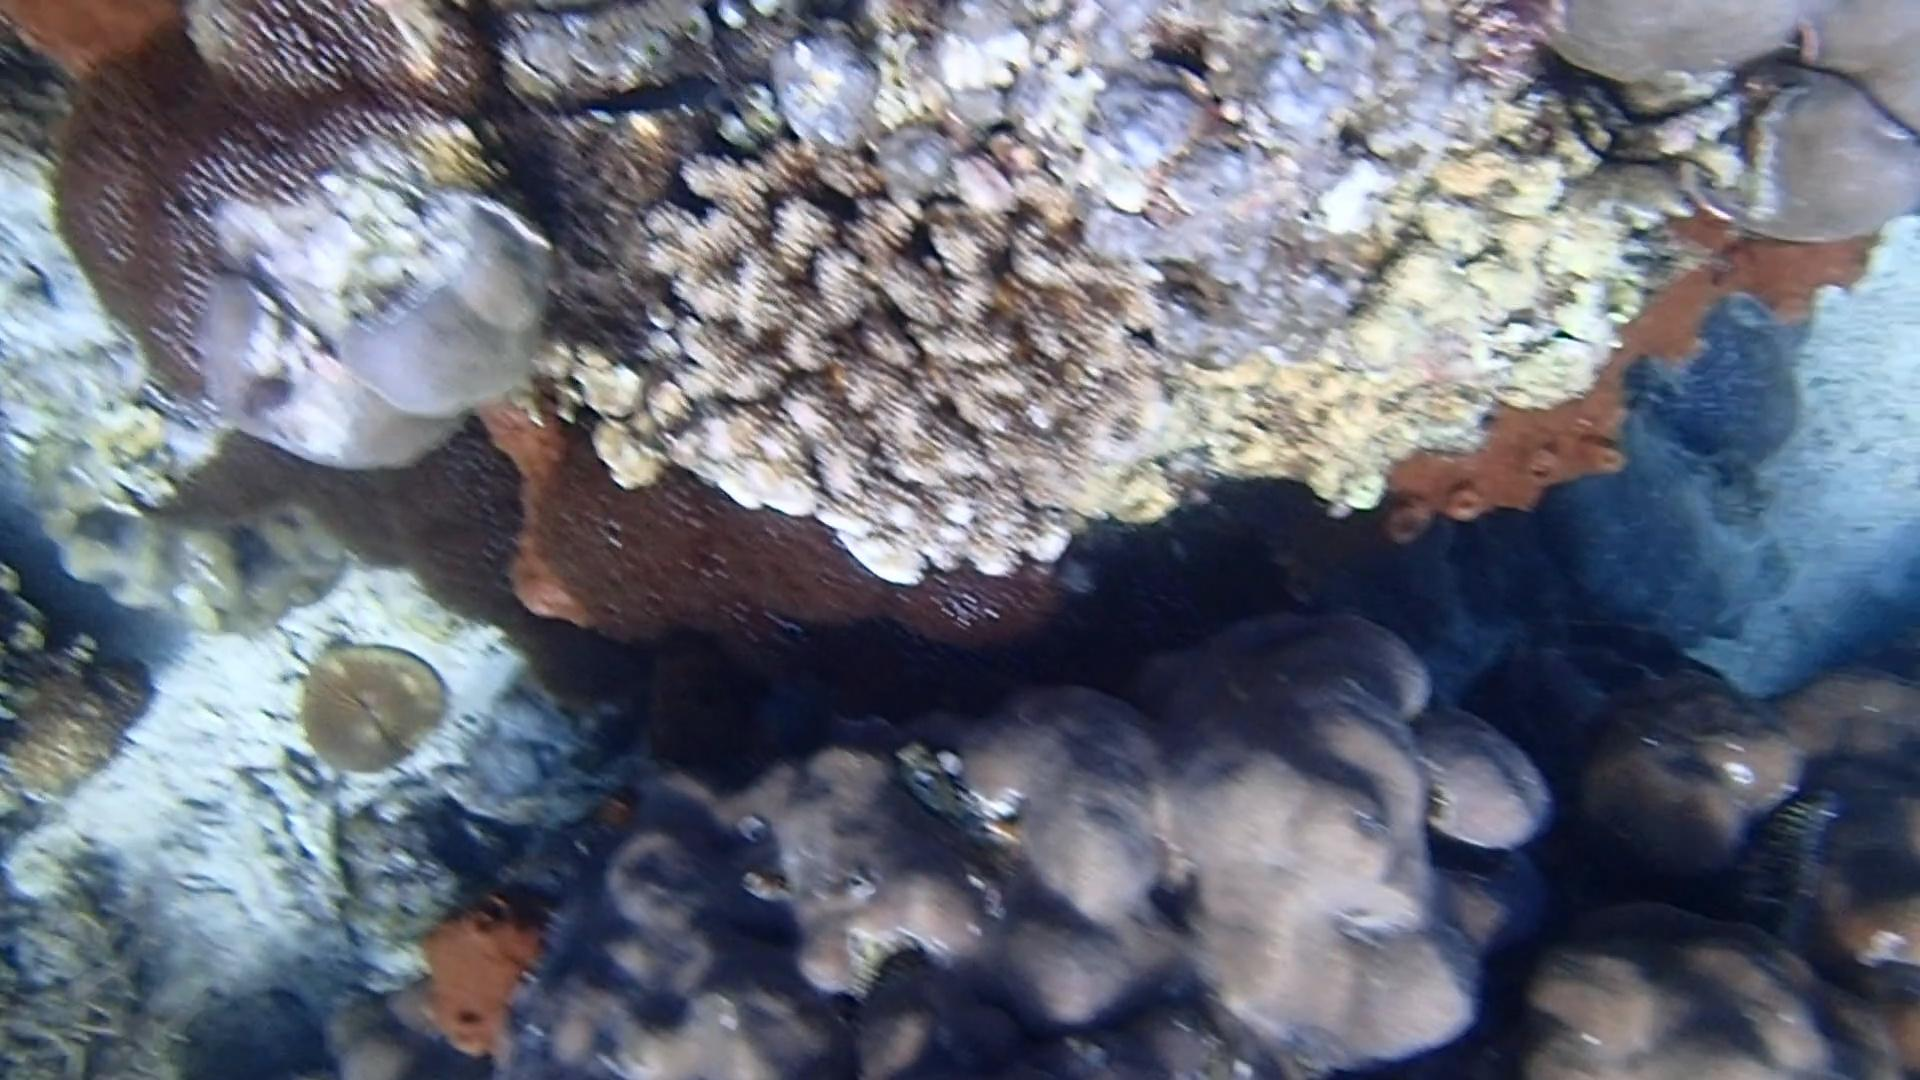Dark Fish: (555, 58, 736, 133)
